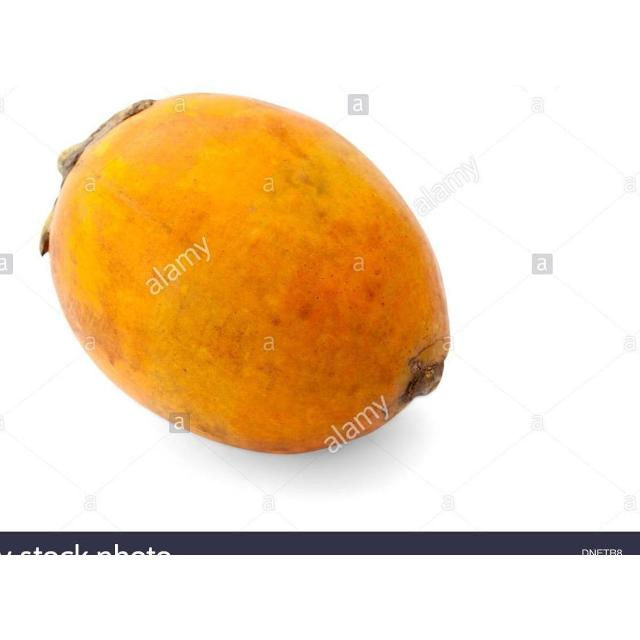good: (42, 93, 452, 457)
